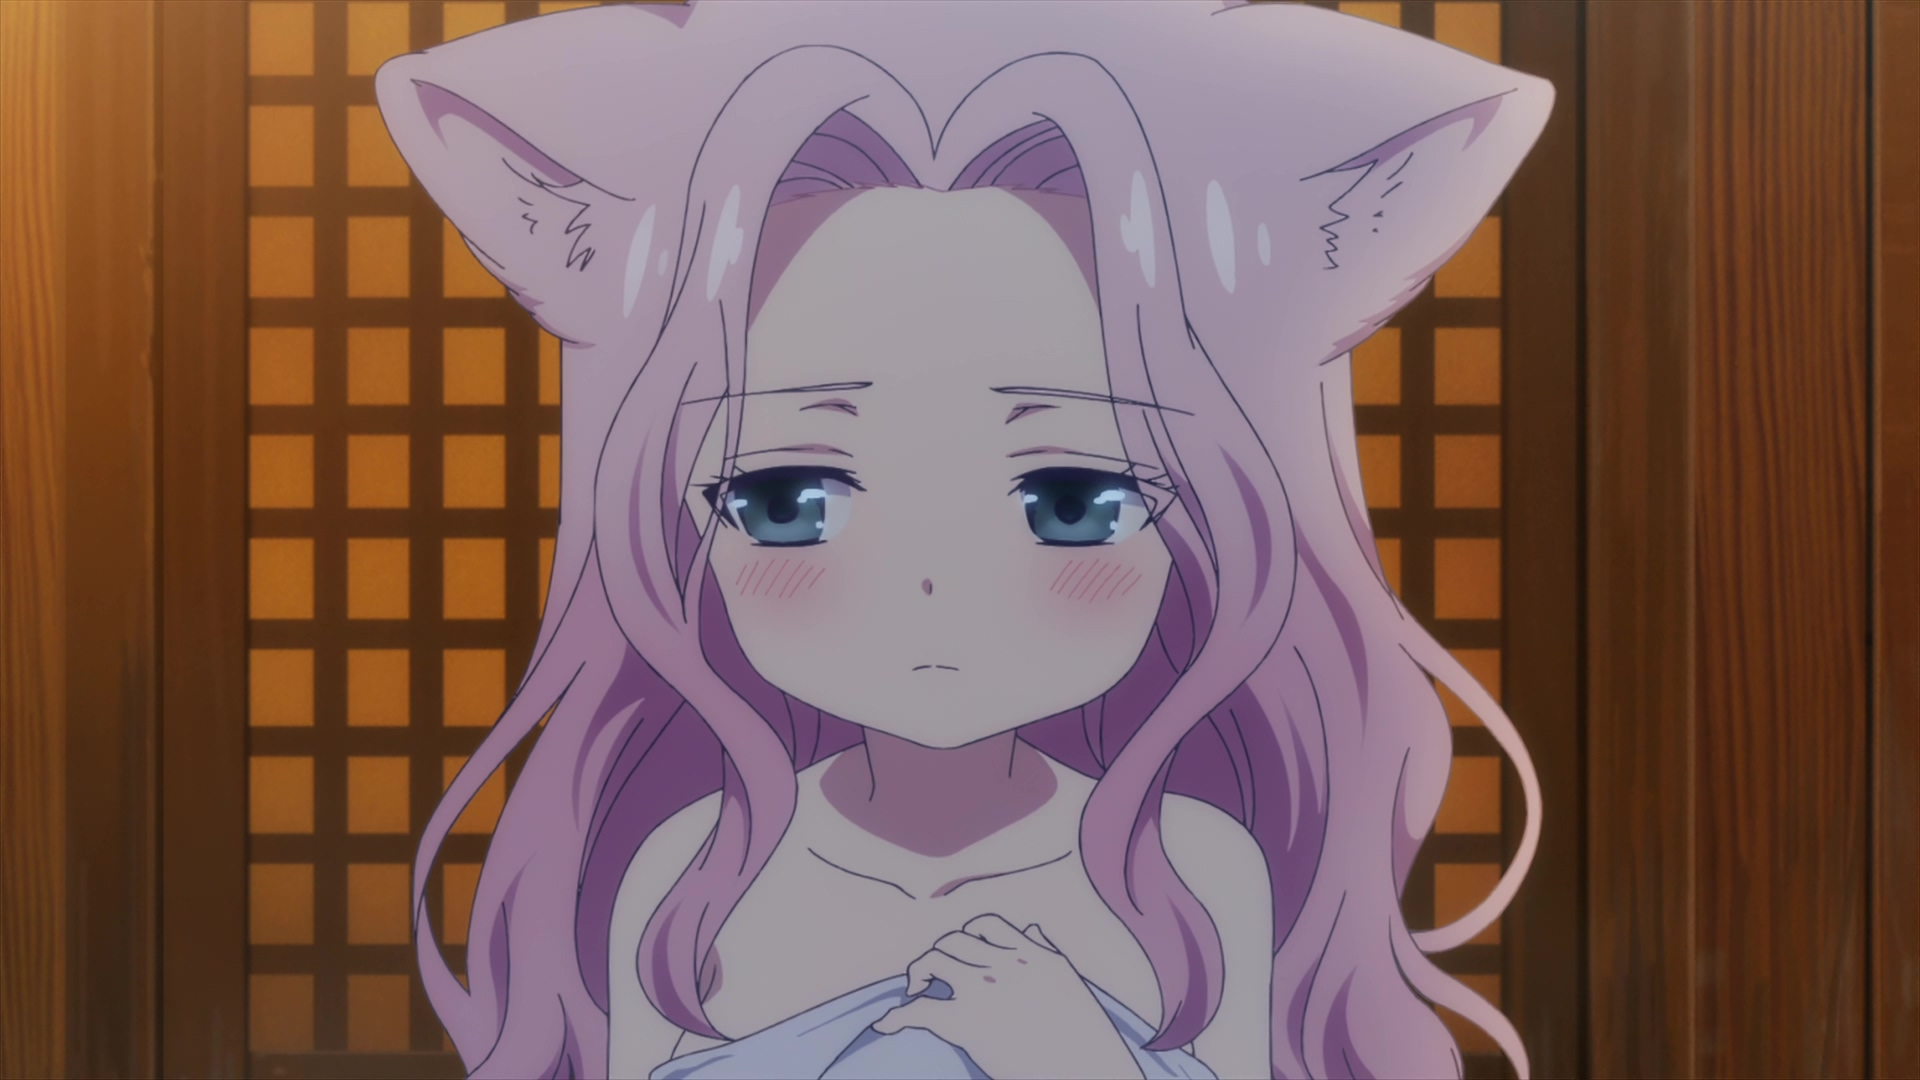莲: (375, 1, 1555, 1080)
